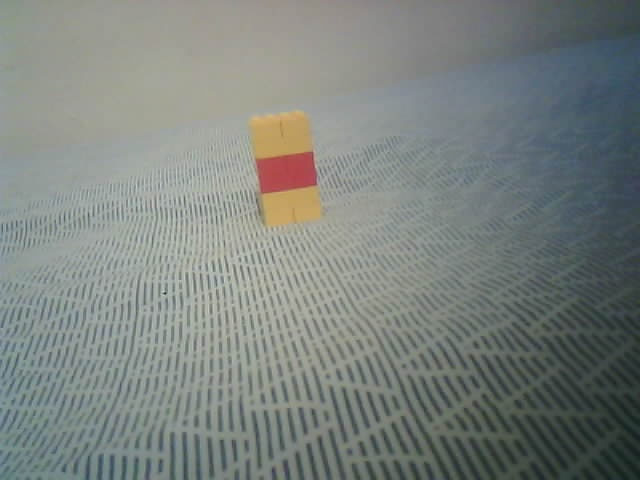lego: (247, 110, 321, 227)
